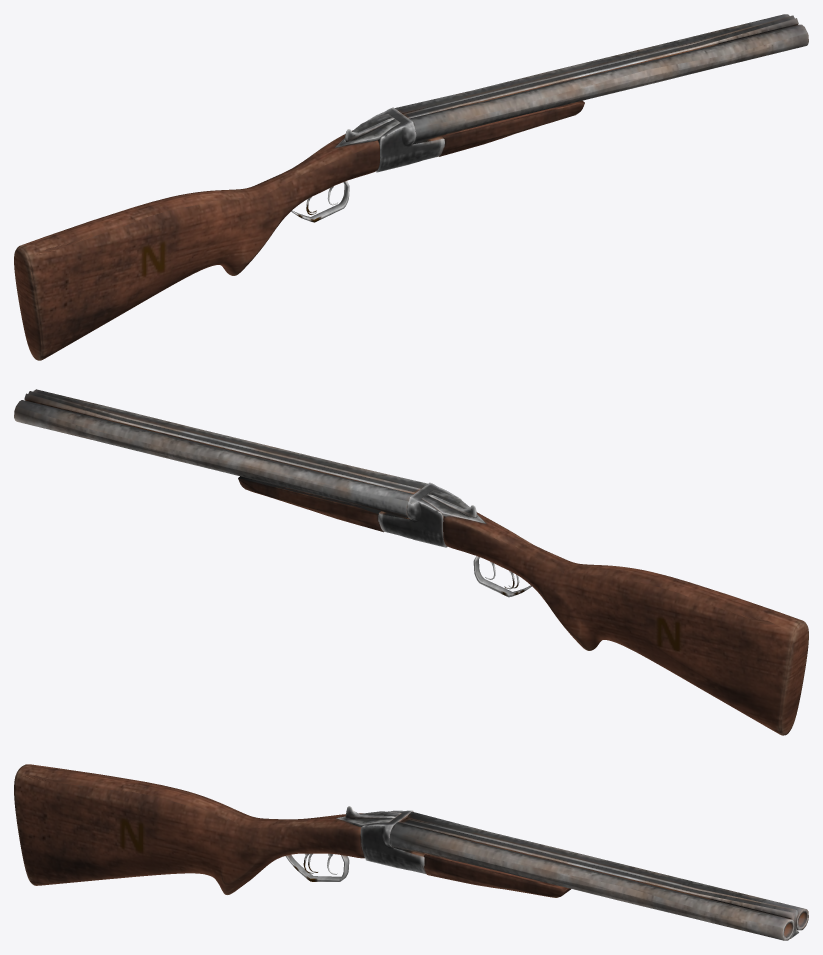
Rendered from Shotgun.obj.
3 views of the same model, one above another, from view 1: azimuth 30°, elevation 25°; view 2: azimuth 150°, elevation 25°; view 3: azimuth 330°, elevation 25° (orthographic).
Visible parts, largest first — view 1: Shotgun; view 2: Shotgun; view 3: Shotgun.
Part boxes in pixels (x1=…): Shotgun: x1=14, y1=14, x2=808, y2=360; Shotgun: x1=14, y1=389, x2=808, y2=735; Shotgun: x1=14, y1=764, x2=808, y2=940.
Size of the model in its own units: 124 by 24.18 by 7.47.
